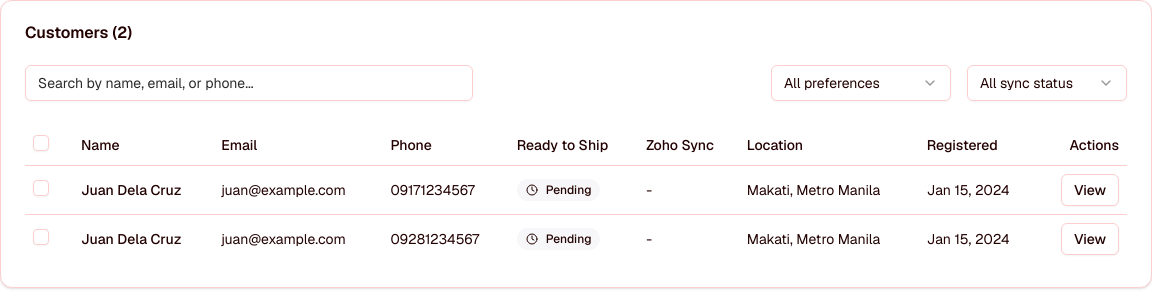
Test case: CustomerList Component › Search Functionality › should filter customers by phone
Type "0928" into the field with placeholder "Search by name, email, or phone..." at {"x": 249, "y": 83}, box [25, 65, 473, 101]
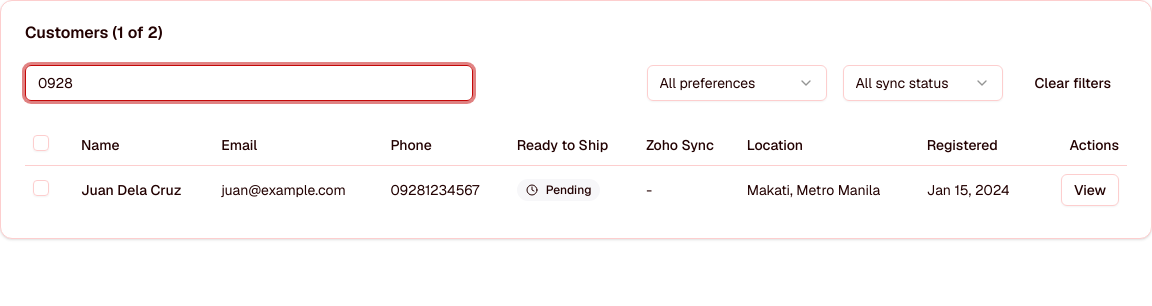
Result: the text "09171234567" is gone
